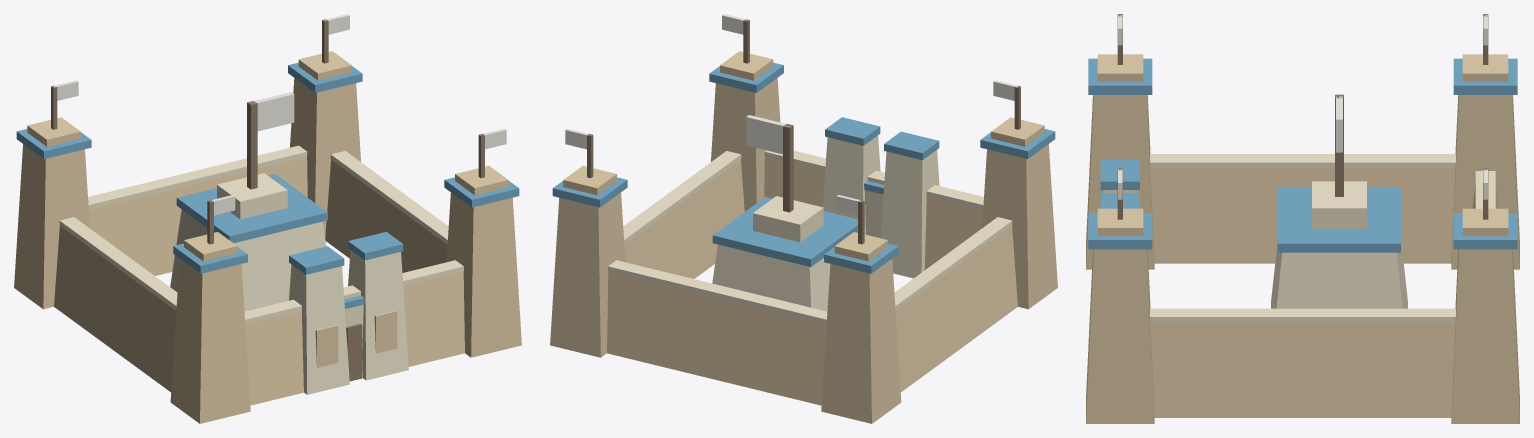
File: fort.glb
3 renders of one model, left to right at view 1: azimuth 30°, elevation 25°; view 2: azimuth 150°, elevation 25°; view 3: azimuth 270°, elevation 25°, orthographic. The views are drawn at different scales.
Visible parts, largest first — view 1: egyptian_fort; view 2: egyptian_fort; view 3: egyptian_fort.
Boxes of the visible parts, left/top/right/bottom form: egyptian_fort: left=14, top=14, right=521, bottom=423; egyptian_fort: left=550, top=14, right=1057, bottom=423; egyptian_fort: left=1086, top=14, right=1519, bottom=423.
Size of the model in its own units: 0.95 by 0.58 by 0.95.
